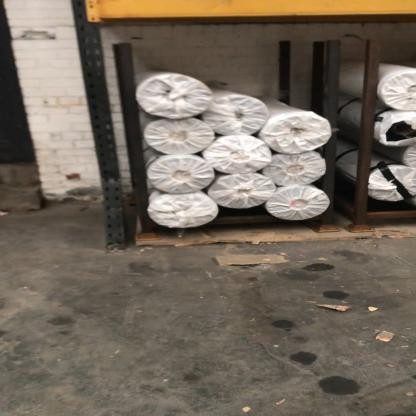vertical_damage: (92, 139, 129, 206)
